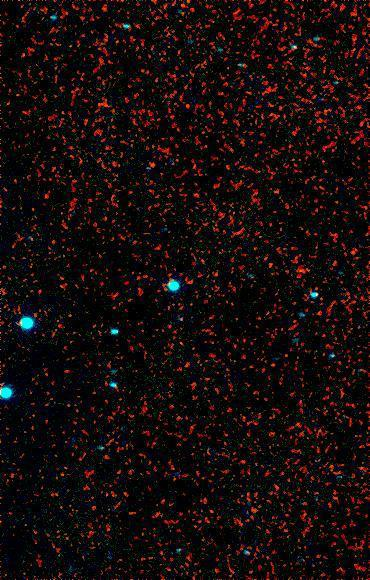star: (138, 152, 168, 182)
